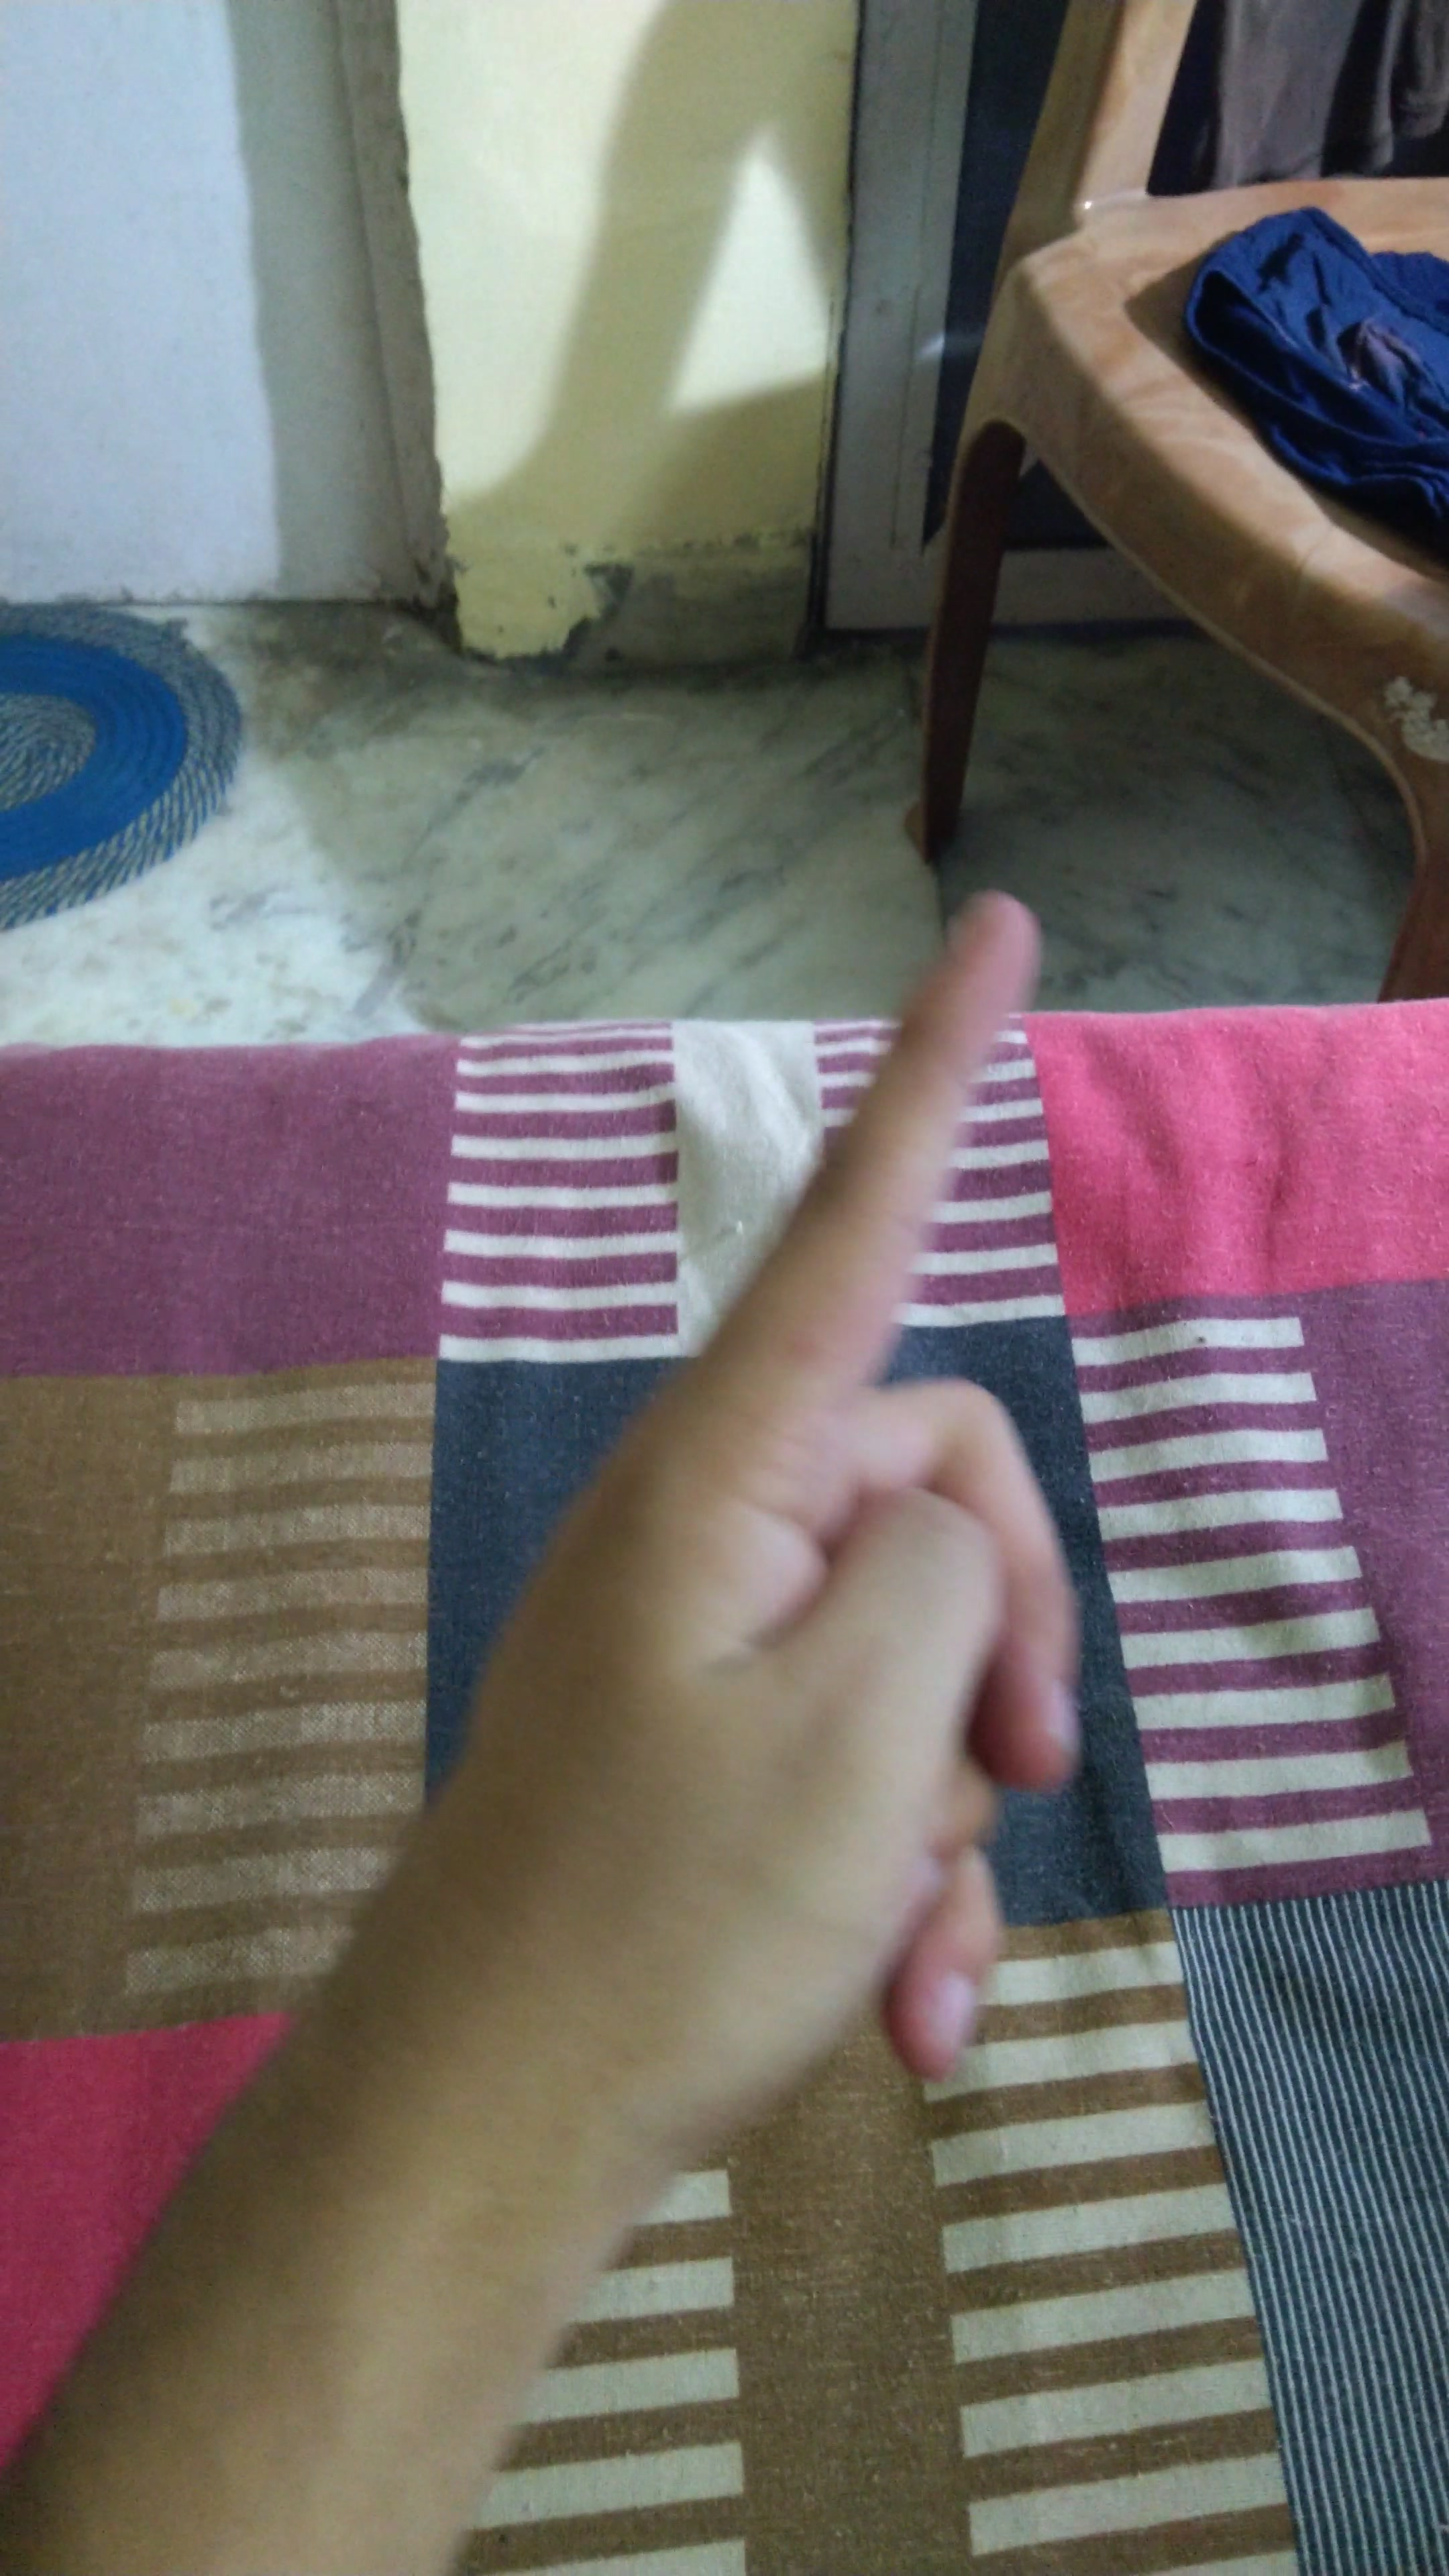hand: (373, 855, 1184, 2194)
